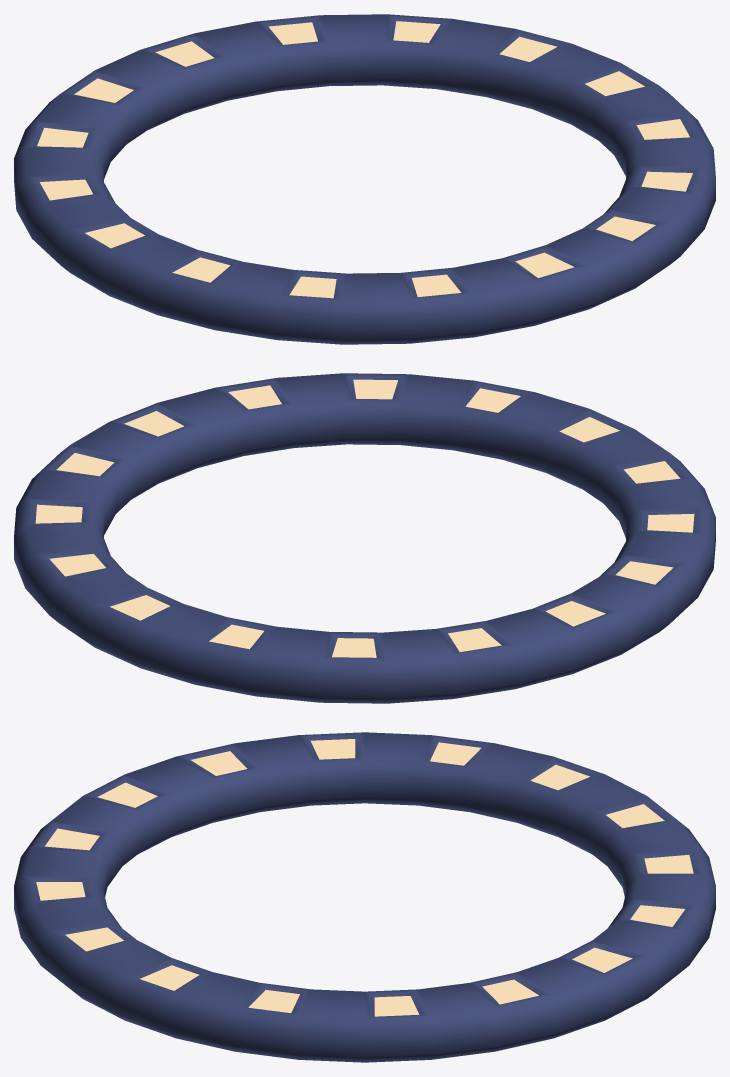
File: purple_yellow.glb
3 renders of one model, top to bottom at view 1: azimuth 30°, elevation 25°; view 2: azimuth 150°, elevation 25°; view 3: azimuth 270°, elevation 25°, orthographic.
Visible parts, largest first — view 1: MarketTileBuilder; view 2: MarketTileBuilder; view 3: MarketTileBuilder.
Part boxes in pixels (x1,y1,x2,y2): MarketTileBuilder: (14, 14, 715, 344); MarketTileBuilder: (14, 373, 715, 703); MarketTileBuilder: (14, 732, 715, 1062).
Bounding box in the file's own units: 1.41 × 0.0957 × 1.41.
